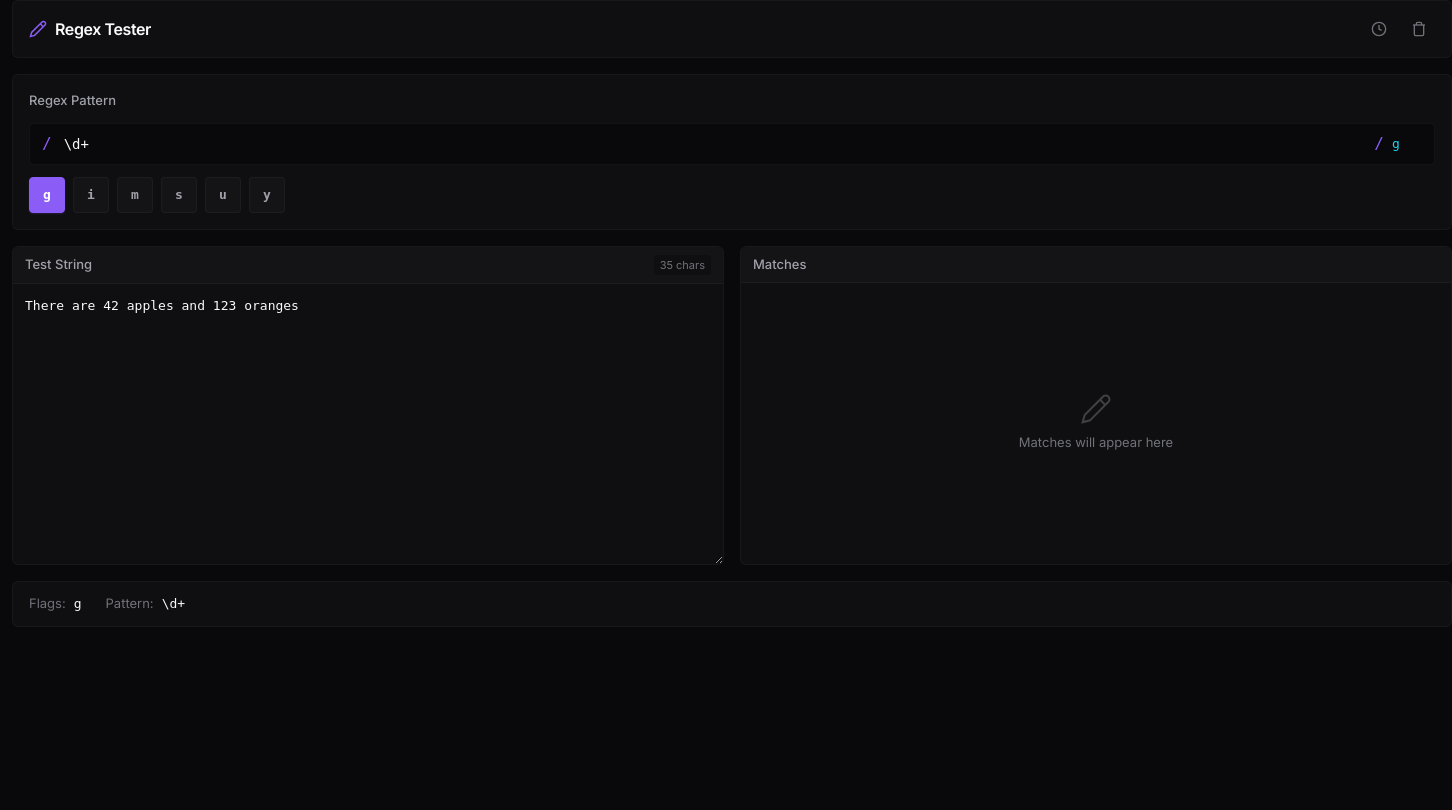
Scenario: RegexTool › should show matches when pattern and text provided
Replace the text in the field with id "regex-pattern" with "test" at (713, 144), box 60,132 -> 1366,156
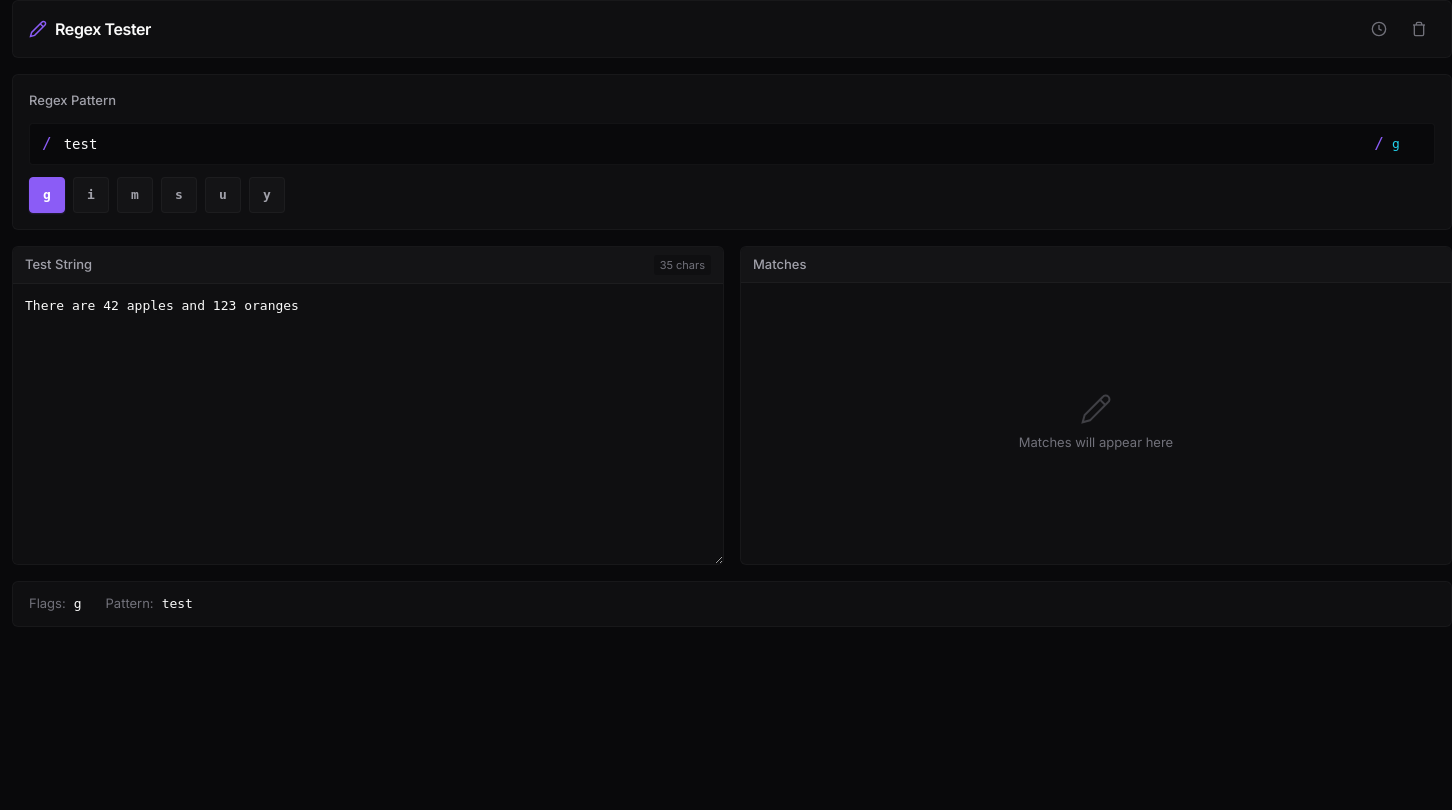
Replace the text in the text box with id "regex-input-text" with "this is a test and another test here" at (368, 424), box 13,284 -> 723,564
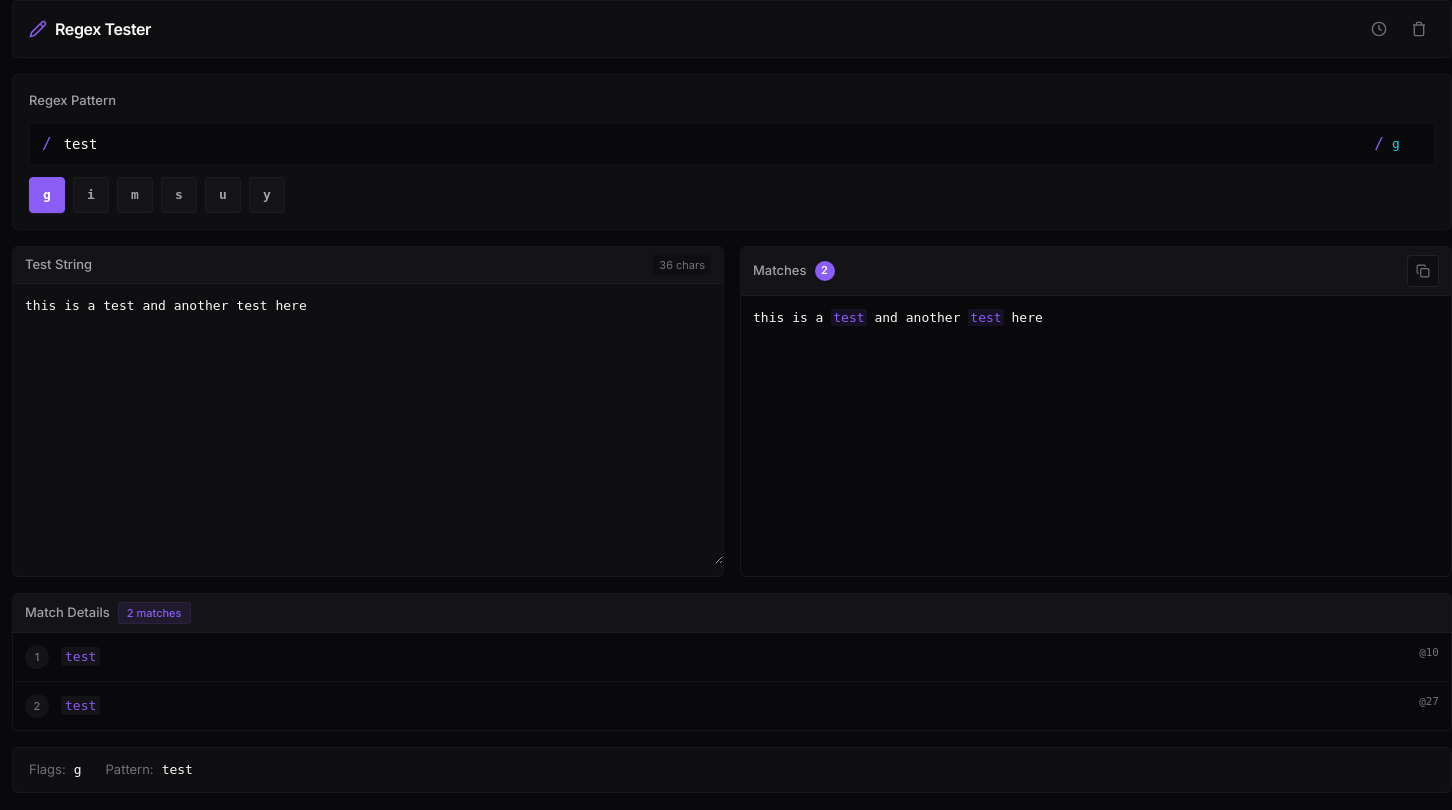
Now the 1st text "test" is shown, box 831,308 -> 867,326
Now the 2nd text "test" is shown, box 968,308 -> 1004,326
